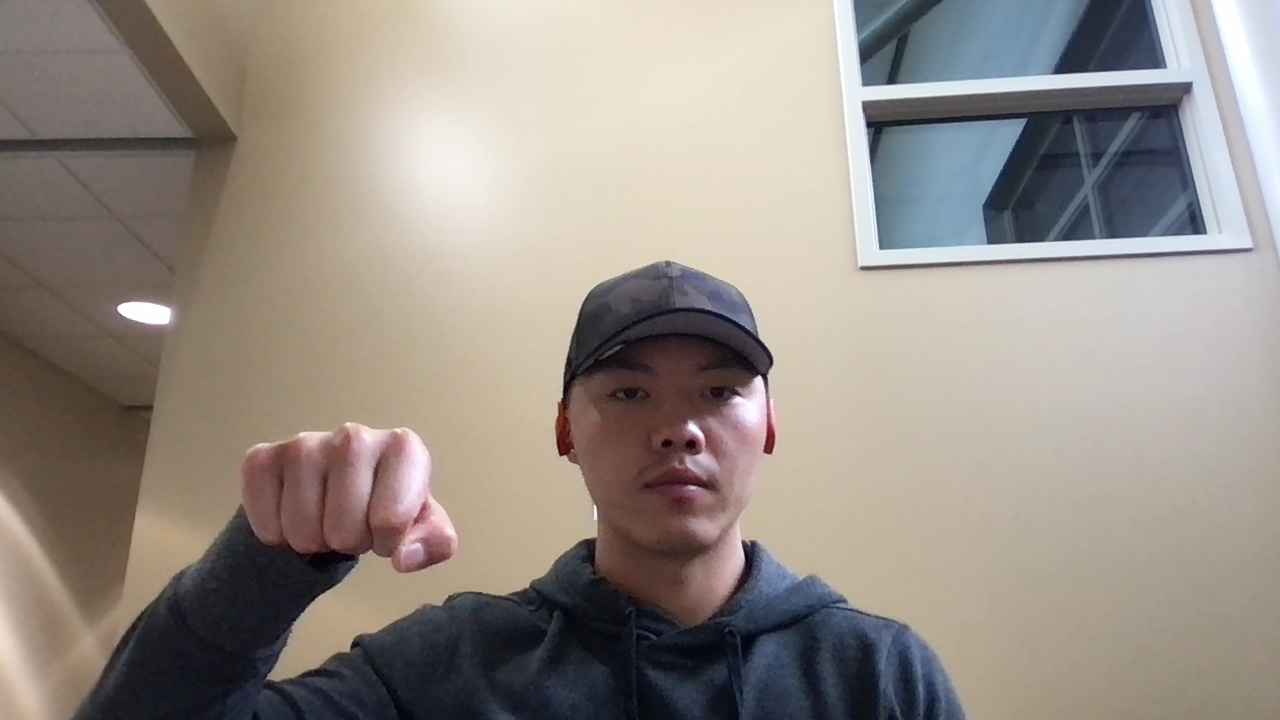Yes: (230, 418, 468, 572)
